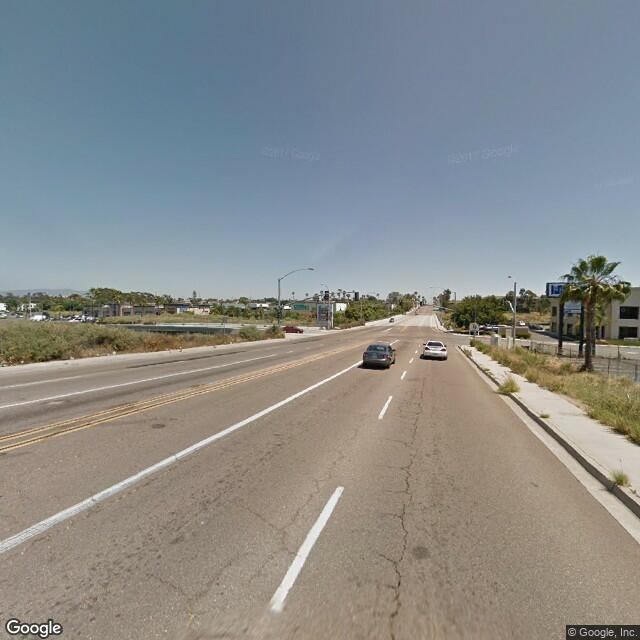litter: (111, 349, 119, 358), (67, 356, 79, 361), (19, 359, 27, 363)
